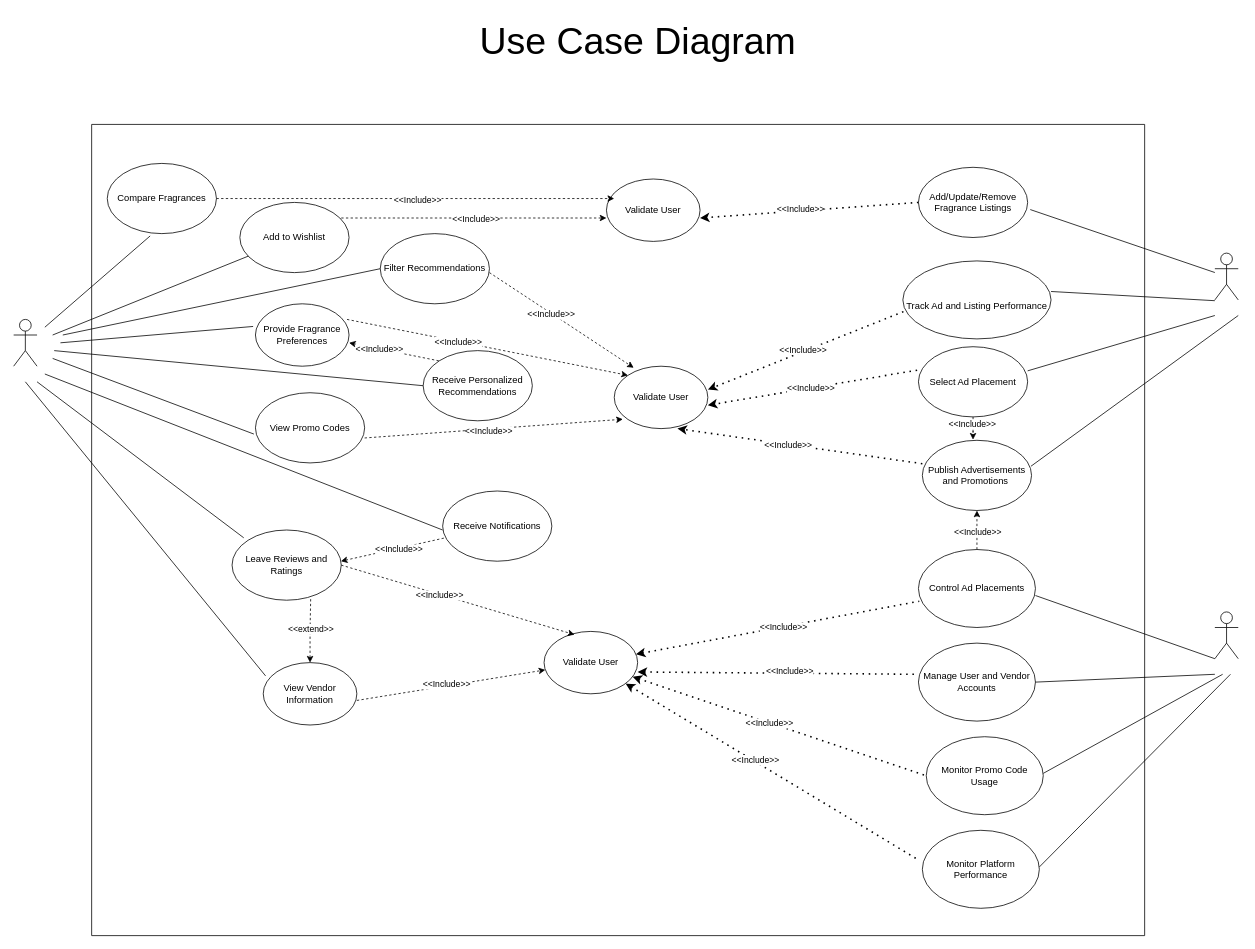
This 1255x949 diagram has some shape labels left out. Here are the shapes that lost their labels. From the top down, the box of each, then its label:
(1214, 252, 1238, 300): Vendor
(13, 319, 37, 366): User
(1214, 611, 1238, 659): Admin
